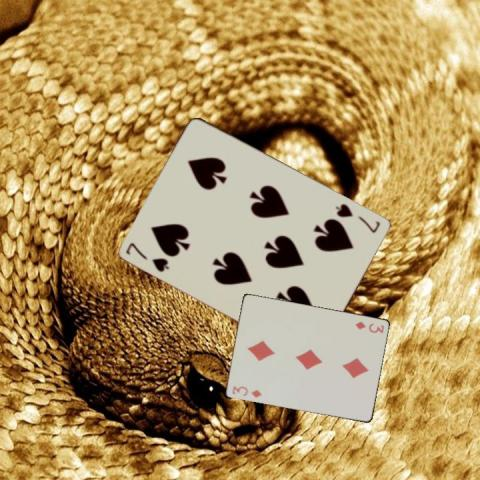3d: (228, 384, 262, 400), (352, 318, 385, 334)
7s: (333, 200, 382, 235), (124, 240, 172, 274)
